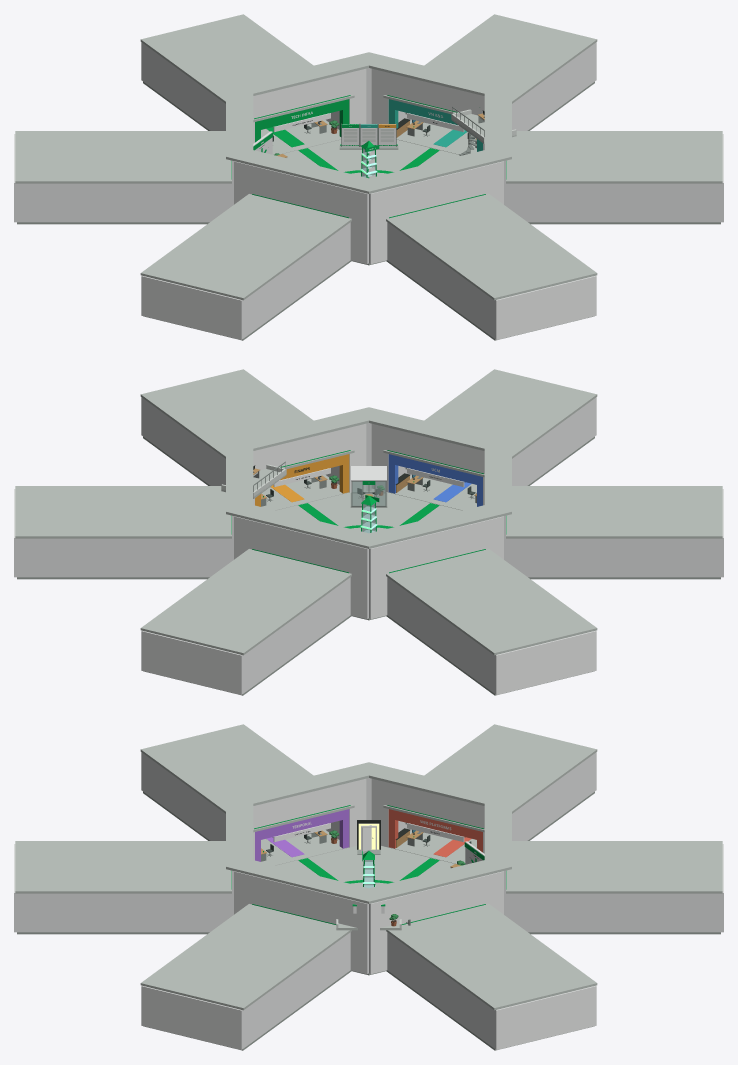
The model's file is grab-workplace.glb.
3 views of the same model, one above another, from view 1: azimuth 30°, elevation 25°; view 2: azimuth 150°, elevation 25°; view 3: azimuth 270°, elevation 25° (orthographic).
Visible parts, largest first — view 1: Court, ROOF_CourtRing, ROOF_Wing_temporal, ROOF_Wing_ucm, ROOF_Wing_web, ROOF_Wing_finapps, Wing_finapps, Wing_web, Wing_temporal, Wing_ucm, ROOF_Wing_infra, ROOF_Wing_vnrd (+4 smaller); view 2: Court, ROOF_CourtRing, ROOF_Wing_infra, ROOF_Wing_web, ROOF_Wing_temporal, ROOF_Wing_vnrd, Wing_temporal, Wing_vnrd, Wing_infra, Wing_web, ROOF_Wing_ucm, ROOF_Wing_finapps (+4 smaller); view 3: Court, ROOF_CourtRing, ROOF_Wing_finapps, ROOF_Wing_vnrd, ROOF_Wing_infra, ROOF_Wing_ucm, Wing_infra, Wing_ucm, Wing_finapps, Wing_vnrd, ROOF_Wing_temporal, ROOF_Wing_web (+3 smaller).
Boxes of the visible parts, x1,y1,x2,y2 form: Court: (231, 68, 506, 265); ROOF_CourtRing: (226, 52, 511, 193); ROOF_Wing_temporal: (140, 194, 351, 300); ROOF_Wing_ucm: (386, 194, 597, 300); ROOF_Wing_web: (15, 131, 231, 183); ROOF_Wing_finapps: (506, 131, 722, 183); Wing_finapps: (506, 134, 723, 224); Wing_web: (14, 134, 231, 224); Wing_temporal: (141, 222, 351, 340); Wing_ucm: (386, 222, 596, 340); ROOF_Wing_infra: (140, 14, 354, 122); ROOF_Wing_vnrd: (383, 14, 597, 113); Court: (231, 423, 506, 620); ROOF_CourtRing: (226, 407, 511, 548); ROOF_Wing_infra: (140, 549, 351, 655); ROOF_Wing_web: (386, 549, 597, 655); ROOF_Wing_temporal: (506, 486, 722, 538); ROOF_Wing_vnrd: (15, 486, 231, 538); Wing_temporal: (506, 489, 723, 579); Wing_vnrd: (14, 489, 231, 579); Wing_infra: (141, 577, 351, 695); Wing_web: (386, 577, 596, 695); ROOF_Wing_ucm: (383, 369, 597, 477); ROOF_Wing_finapps: (140, 369, 354, 468); Court: (231, 778, 506, 975); ROOF_CourtRing: (226, 762, 511, 903); ROOF_Wing_finapps: (140, 904, 351, 1010); ROOF_Wing_vnrd: (386, 904, 597, 1010); ROOF_Wing_infra: (506, 841, 722, 893); ROOF_Wing_ucm: (15, 841, 231, 893); Wing_infra: (506, 844, 723, 934); Wing_ucm: (14, 844, 231, 934); Wing_finapps: (141, 932, 351, 1050); Wing_vnrd: (386, 932, 596, 1050); ROOF_Wing_temporal: (140, 724, 354, 832); ROOF_Wing_web: (383, 724, 597, 832).
Size of what is drawn, in the model's own units: 55.44 by 7.08 by 58.52.
